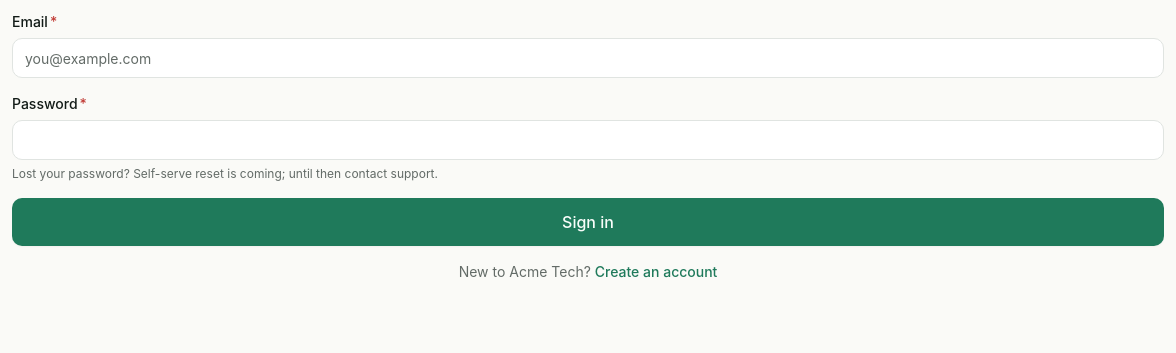
Test: SignInForm › shows a failure as one generic banner, not a field error
In the field labelled "Email*": (588,58) [12,38,1164,78], type "kim@example.com"
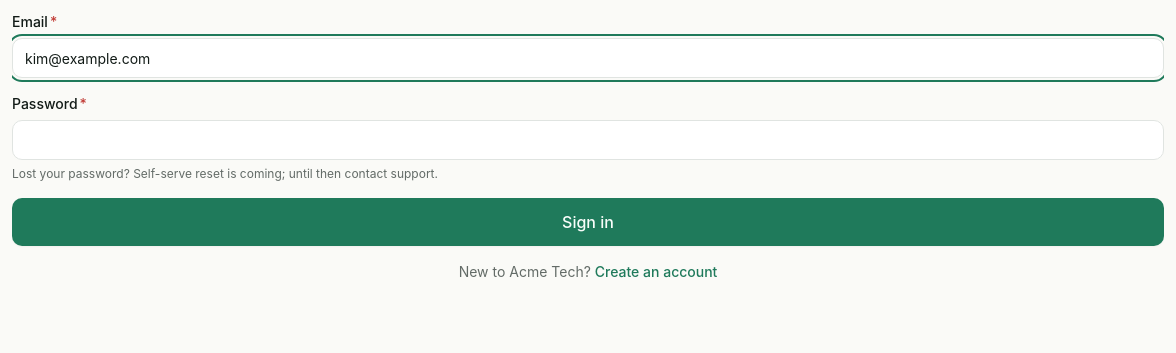
In the password field labelled "Password*": (588,140) [12,120,1164,160], type "wrong-password-x"
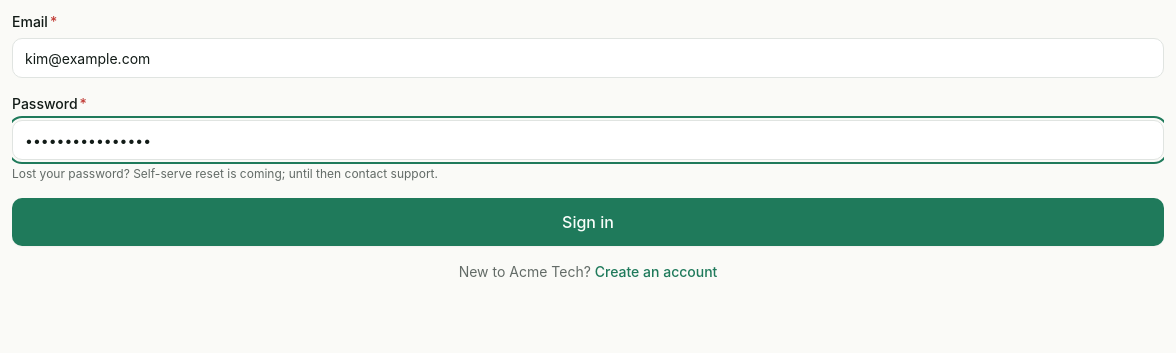
Click the button "Sign in": (588,222) [12,198,1164,246]
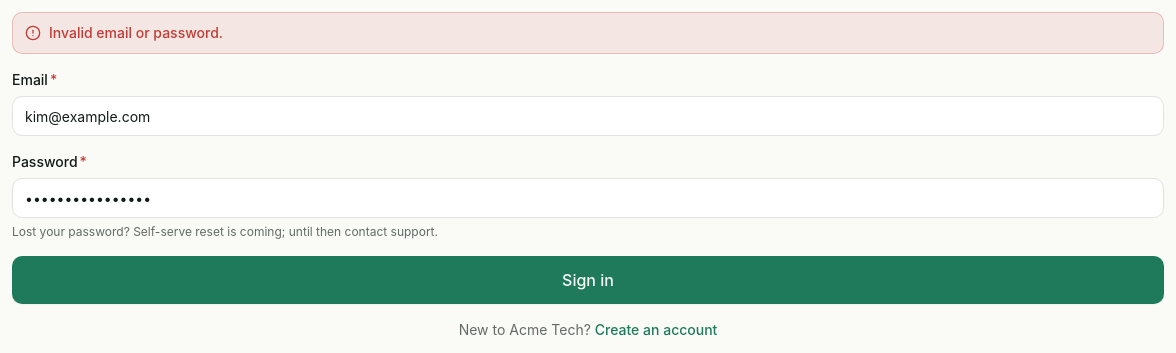
Result: the message reads "Invalid email or password." at [49,24,223,41]
